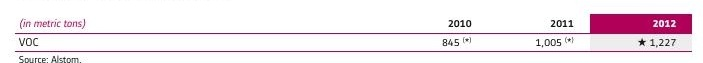table: (0, 0, 703, 63)
